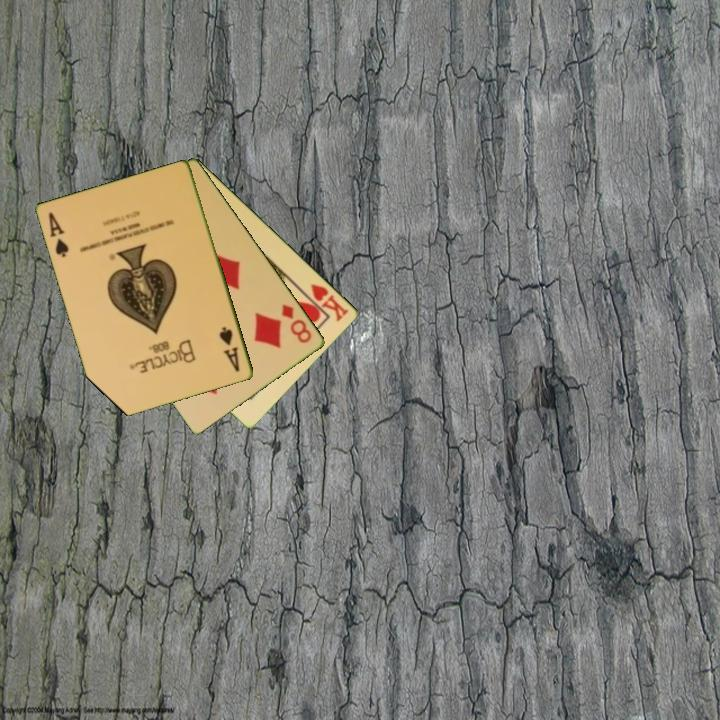8d: (278, 300, 315, 346)
As: (216, 323, 243, 375), (45, 209, 72, 261)
Kh: (299, 280, 352, 324)
